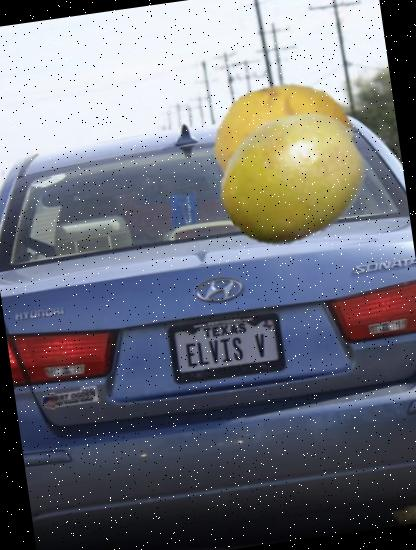Lemon: (204, 62, 372, 230)
Maracuja: (210, 95, 378, 264)
